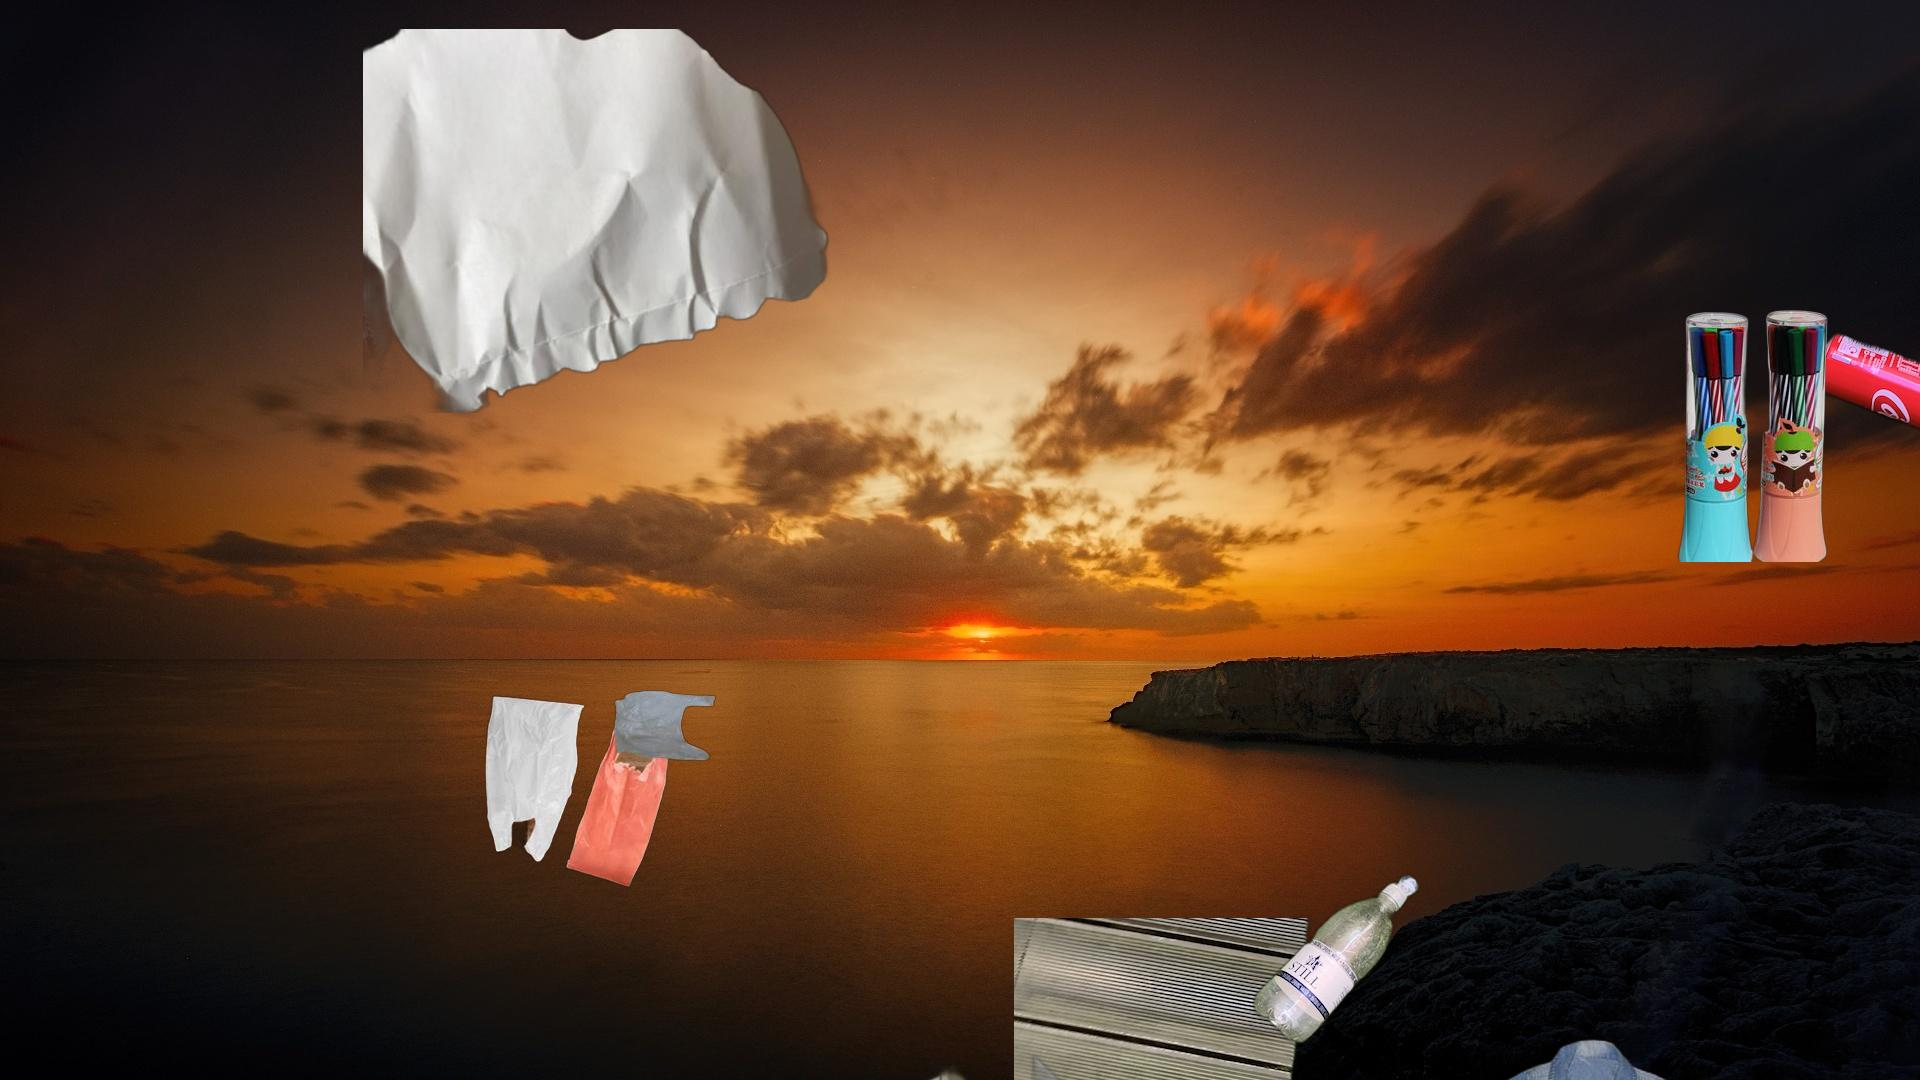clothes: (1387, 1035, 1778, 1080), (835, 1055, 1170, 1080)
metal-cans: (1014, 918, 1447, 1080), (1808, 327, 1920, 447)
paper: (363, 29, 832, 413)
penholder: (1676, 307, 1832, 562)
plastic-bag: (483, 675, 717, 889)
plastic-bottles: (1250, 869, 1423, 1048)
